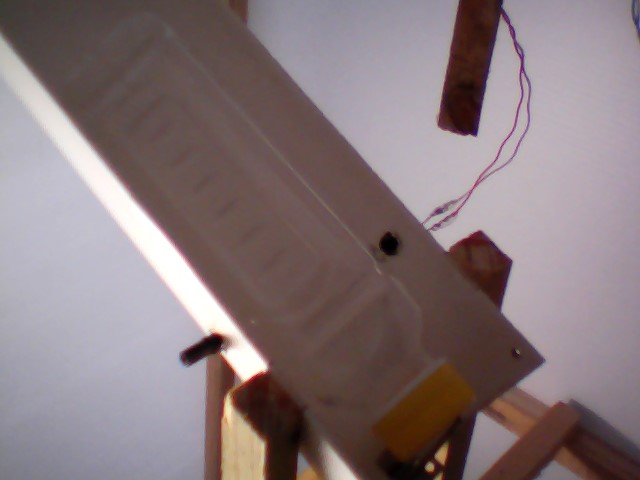plastico: (56, 8, 480, 470)
